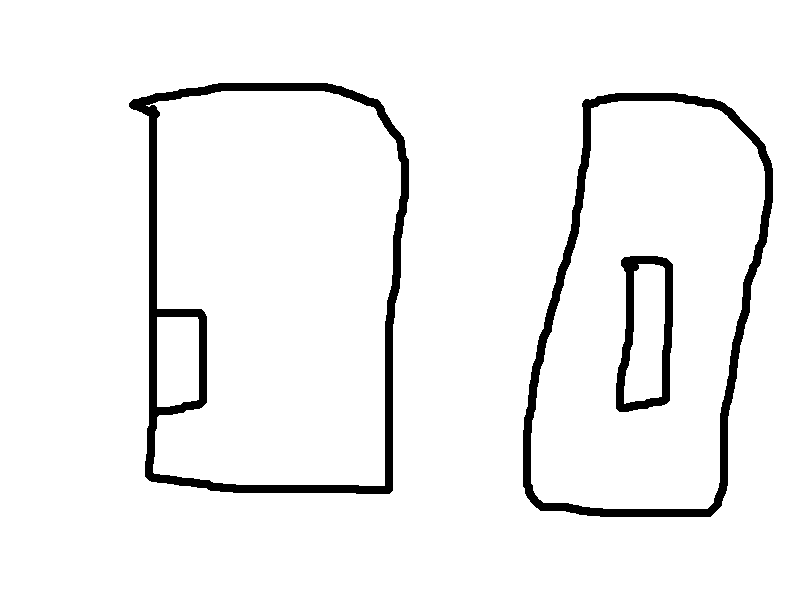dog: (125, 78, 402, 501), (518, 84, 776, 523), (614, 251, 679, 417), (141, 307, 213, 414)
